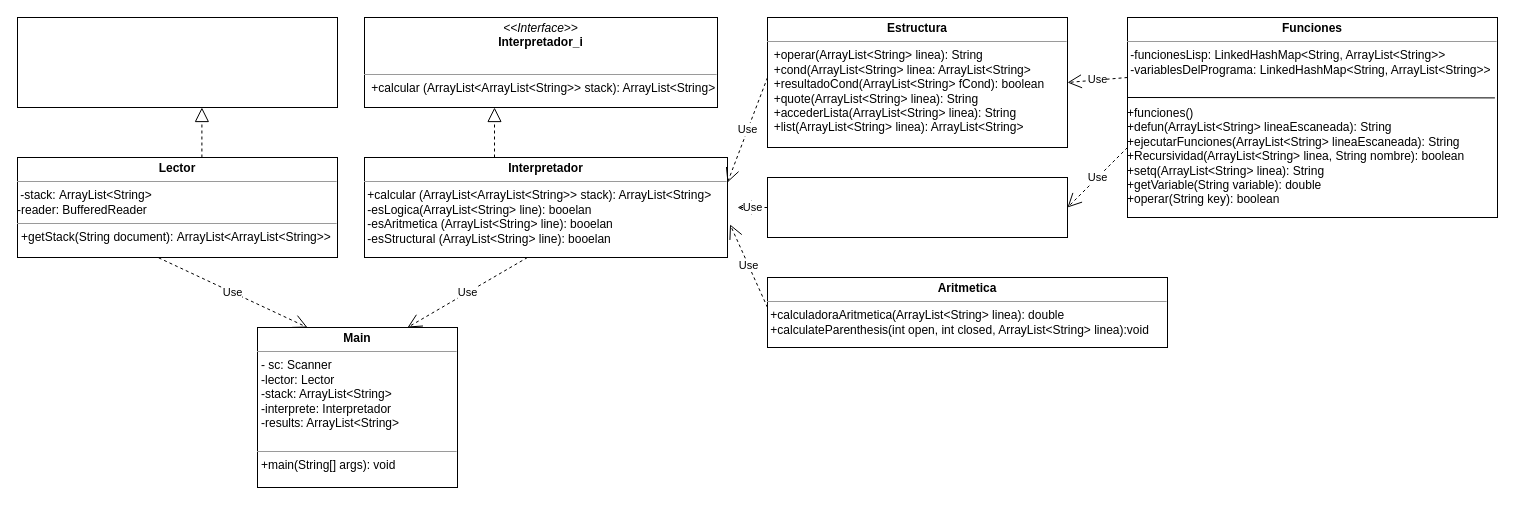
Image size: 1515x505. Some labels were removed from this diagram. The shapes that lost their labels are listed below. From the top down, each one's centre as x and y in pixels, then its label:
point (177, 62): <<Interface>> IStack +getStack(String document): ArrayList<ArrayList<String>>
point (917, 207): Logica +calculadoraLogica(ArrayList<String> lista): boolean
